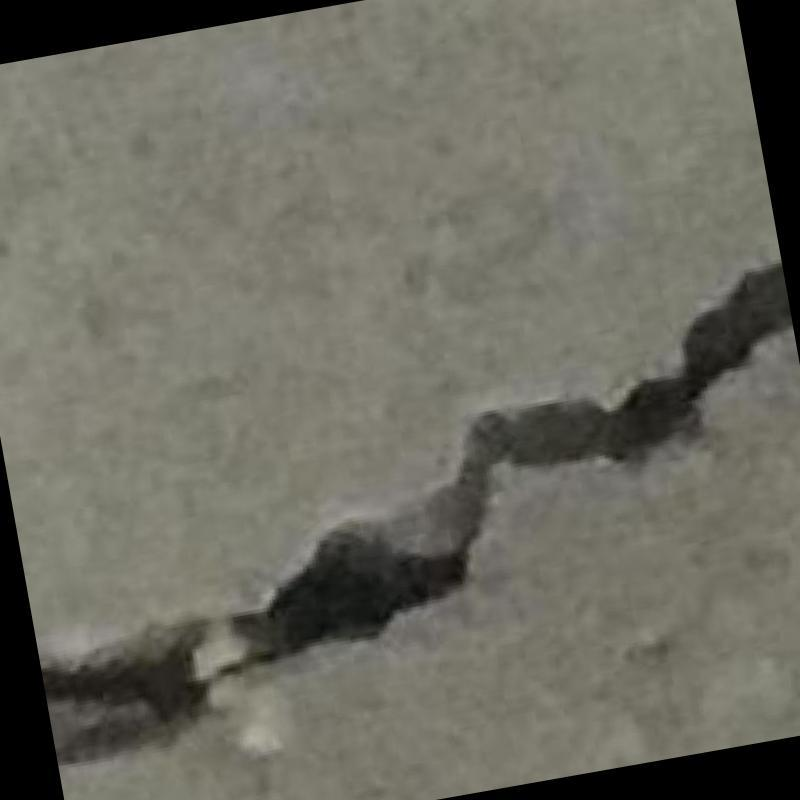pothole: (41, 262, 792, 719)
